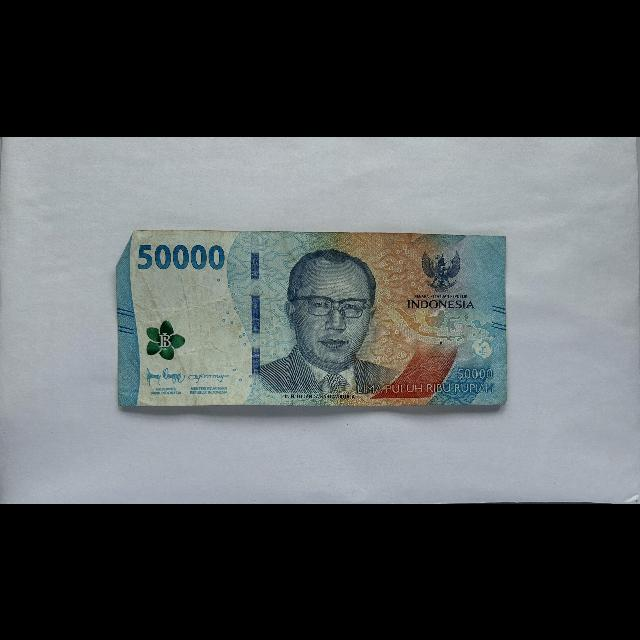Asli-50k: (115, 227, 509, 407)
Tinta-Asli-50k: (146, 318, 186, 360)
